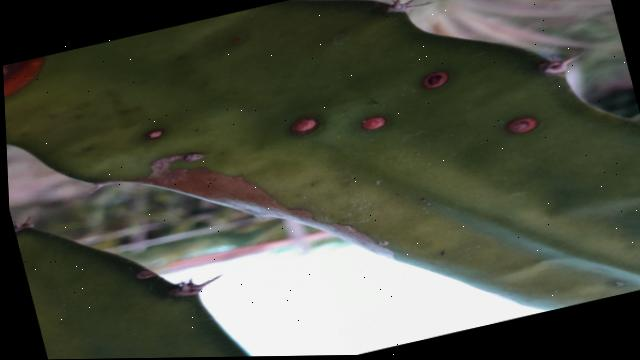stemcanker: (499, 108, 543, 143), (414, 65, 455, 101), (351, 108, 393, 143), (283, 108, 325, 143), (141, 123, 165, 148)
